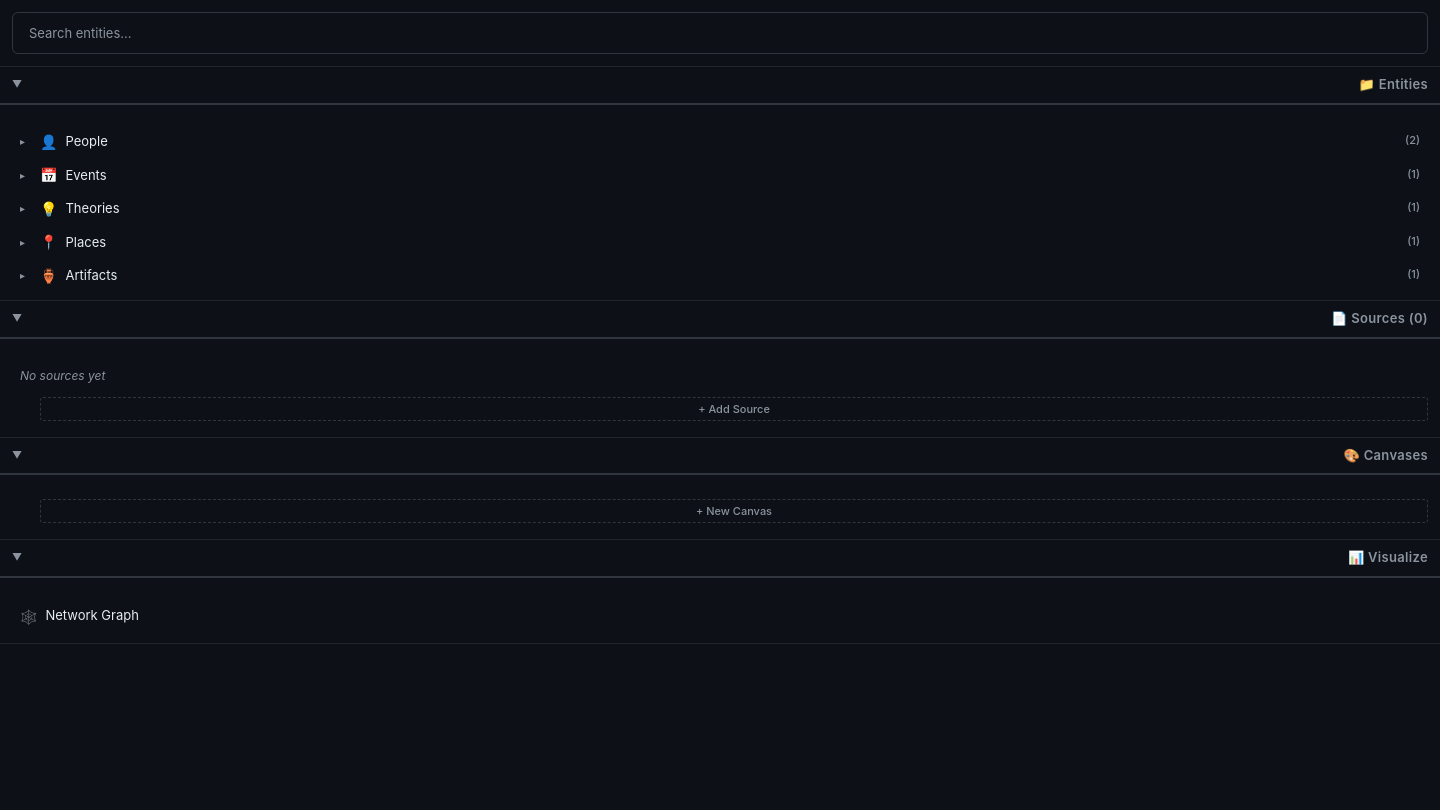
it: EntityExplorer › Search Edge Cases › handles case-insensitive search
Type "ARISTOTLE" into the field with placeholder "Search entities..." at (720, 33), box top-left (12, 12), bottom-right (1428, 54)
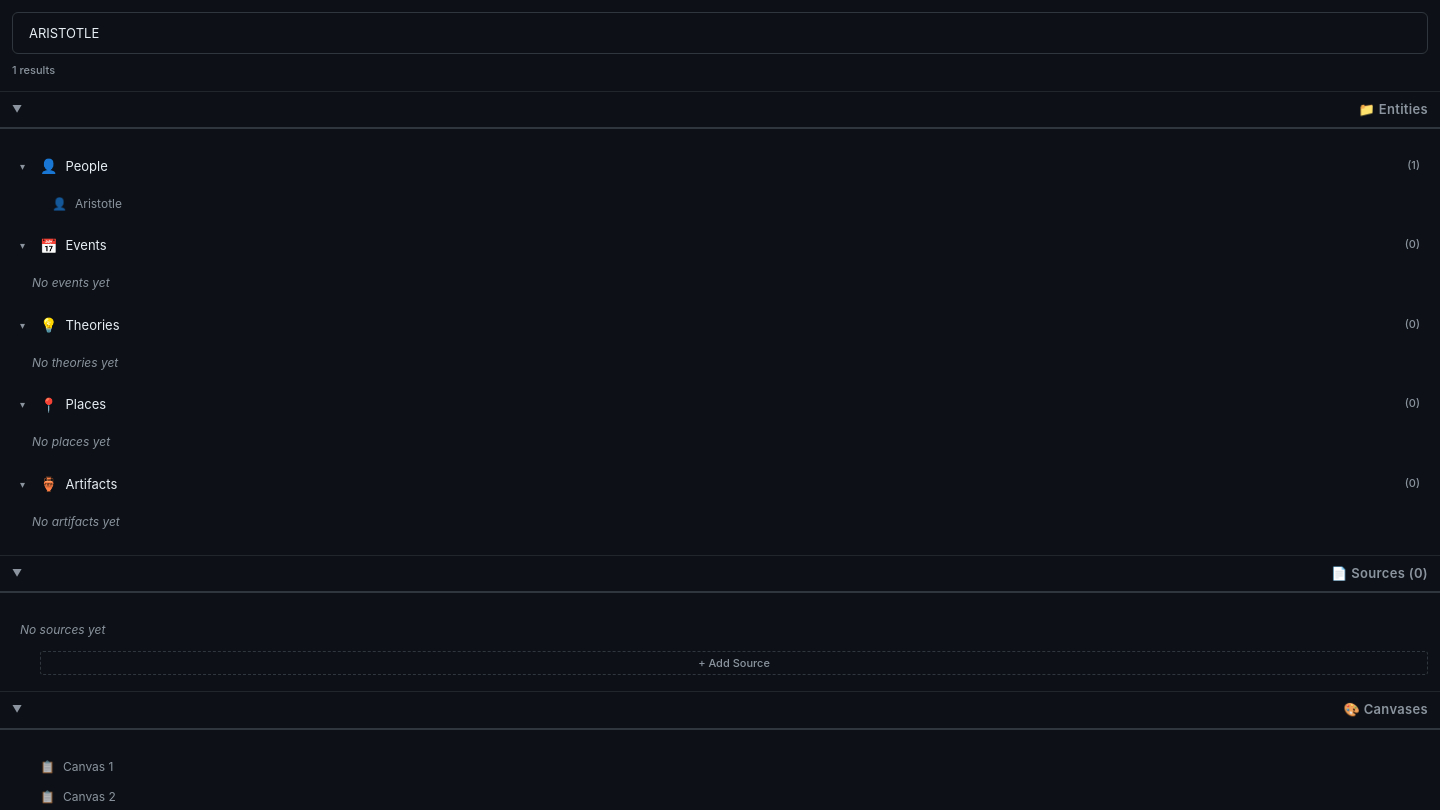
Expected: the text "Aristotle" is shown, top-left (75, 196), bottom-right (122, 210)
